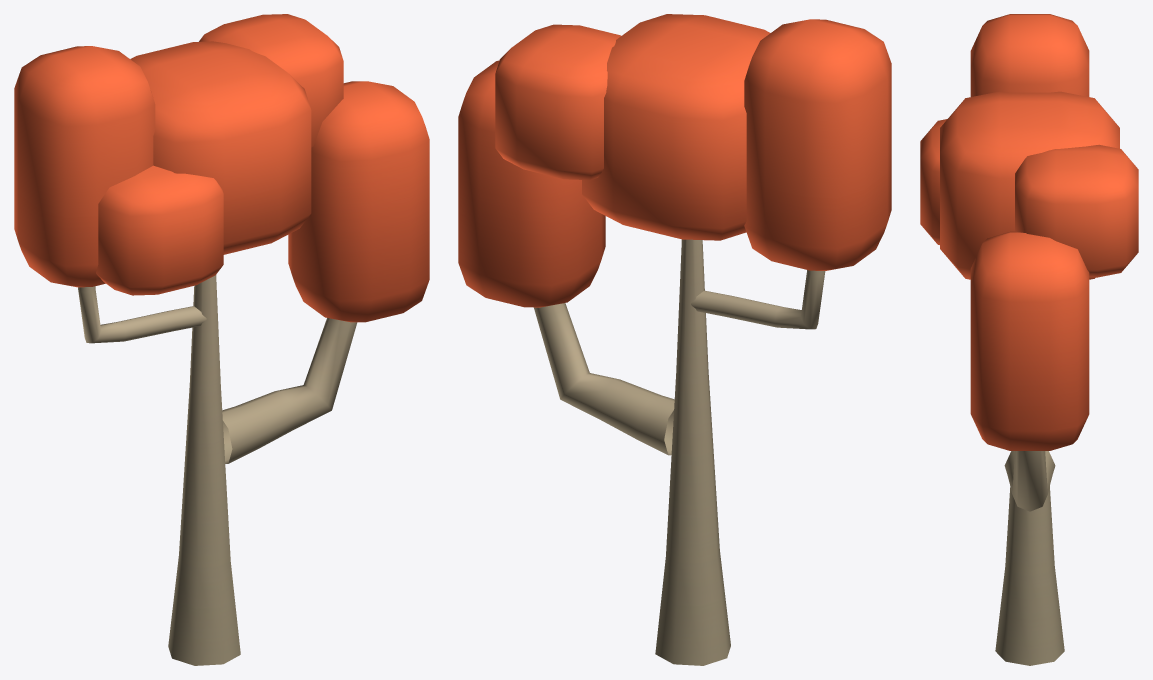
Rendered from Tree+5.fbx.
3 views of the same model, side by side, from view 1: azimuth 30°, elevation 25°; view 2: azimuth 150°, elevation 25°; view 3: azimuth 270°, elevation 25° (orthographic). The views are drawn at different scales.
Visible parts, largest first — view 1: Tree 5; view 2: Tree 5; view 3: Tree 5.
Boxes of the visible parts, x1,y1,x2,y2 form: Tree 5: (14,14,429,665); Tree 5: (458,14,891,665); Tree 5: (920,14,1138,665).
Size of the model in its own units: 283 by 435 by 150.
